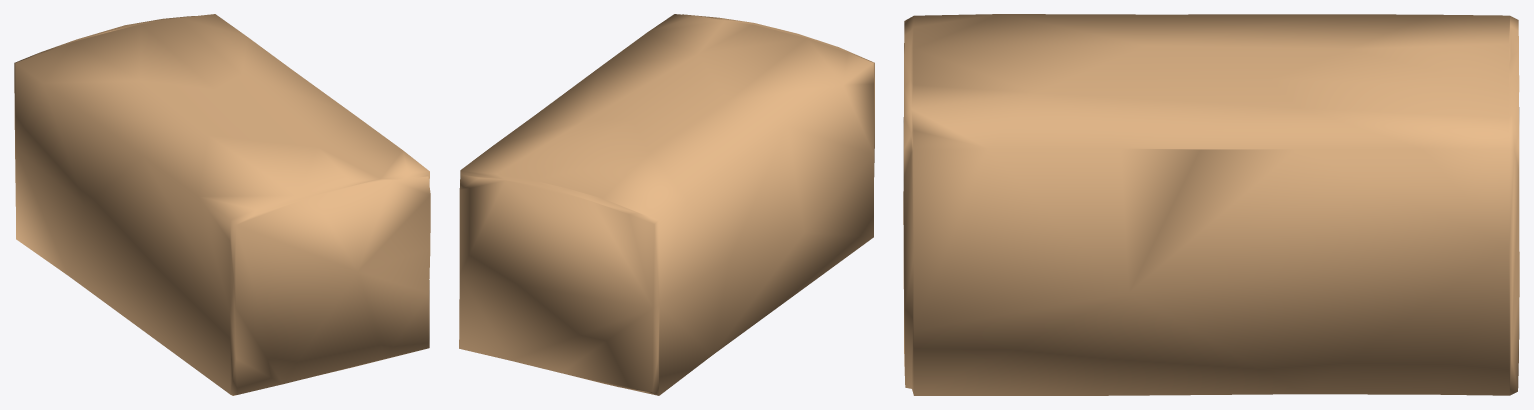
File: breakable_cardboard_box.obj
The picture shows the model from 3 angles, left to right: view 1: azimuth 30°, elevation 25°; view 2: azimuth 150°, elevation 25°; view 3: azimuth 270°, elevation 25°; orthographic projection. The views are drawn at different scales.
Parts seen in each view (by area): view 1: body; view 2: body; view 3: body.
Part boxes in pixels (x1,y1,x2,y2): body: (14,14,430,395); body: (459,14,874,395); body: (903,14,1519,395).
Bounding box in the file's own units: 0.835 × 0.743 × 1.6.
